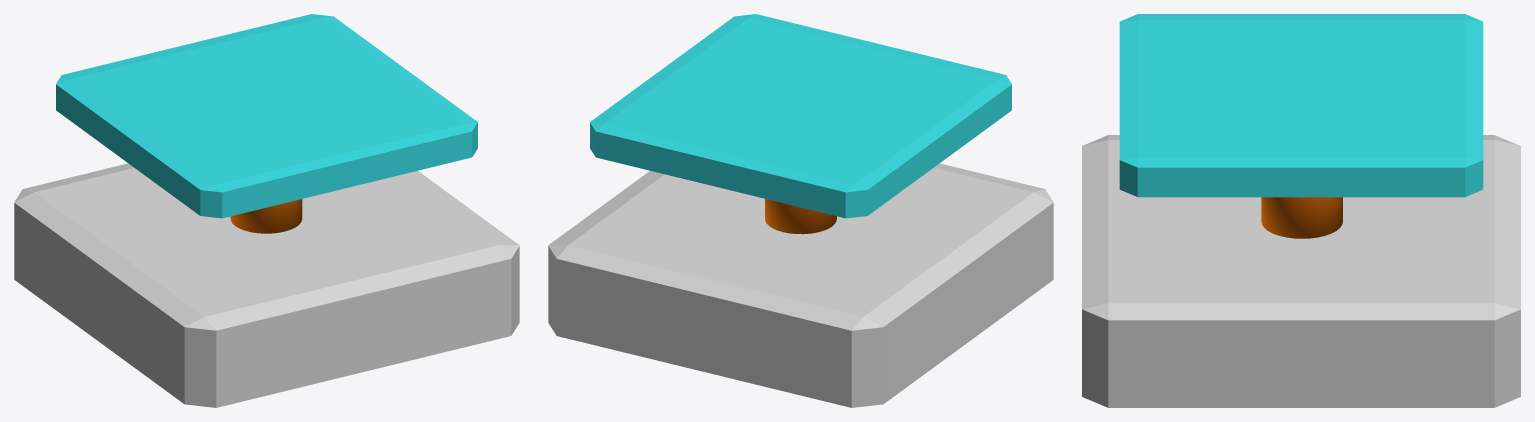
The model's file is Cracker_Trigger.fbx.
3 renders of one model, left to right at view 1: azimuth 30°, elevation 25°; view 2: azimuth 150°, elevation 25°; view 3: azimuth 270°, elevation 25°, orthographic. The views are drawn at different scales.
Visible parts, largest first — view 1: Trigger_Bottom, Trigger_Top, Cylinder; view 2: Trigger_Bottom, Trigger_Top, Cylinder; view 3: Trigger_Bottom, Trigger_Top, Cylinder.
Part boxes in pixels (x1,y1,x2,y2): Trigger_Bottom: [14, 163, 519, 407]; Trigger_Top: [56, 14, 477, 218]; Cylinder: [230, 199, 302, 233]; Trigger_Bottom: [548, 163, 1053, 407]; Trigger_Top: [590, 14, 1011, 218]; Cylinder: [765, 199, 836, 234]; Trigger_Bottom: [1082, 135, 1520, 407]; Trigger_Top: [1119, 14, 1483, 197]; Cylinder: [1261, 197, 1342, 238].
Bounding box in the file's own units: 251 × 147 × 251.
